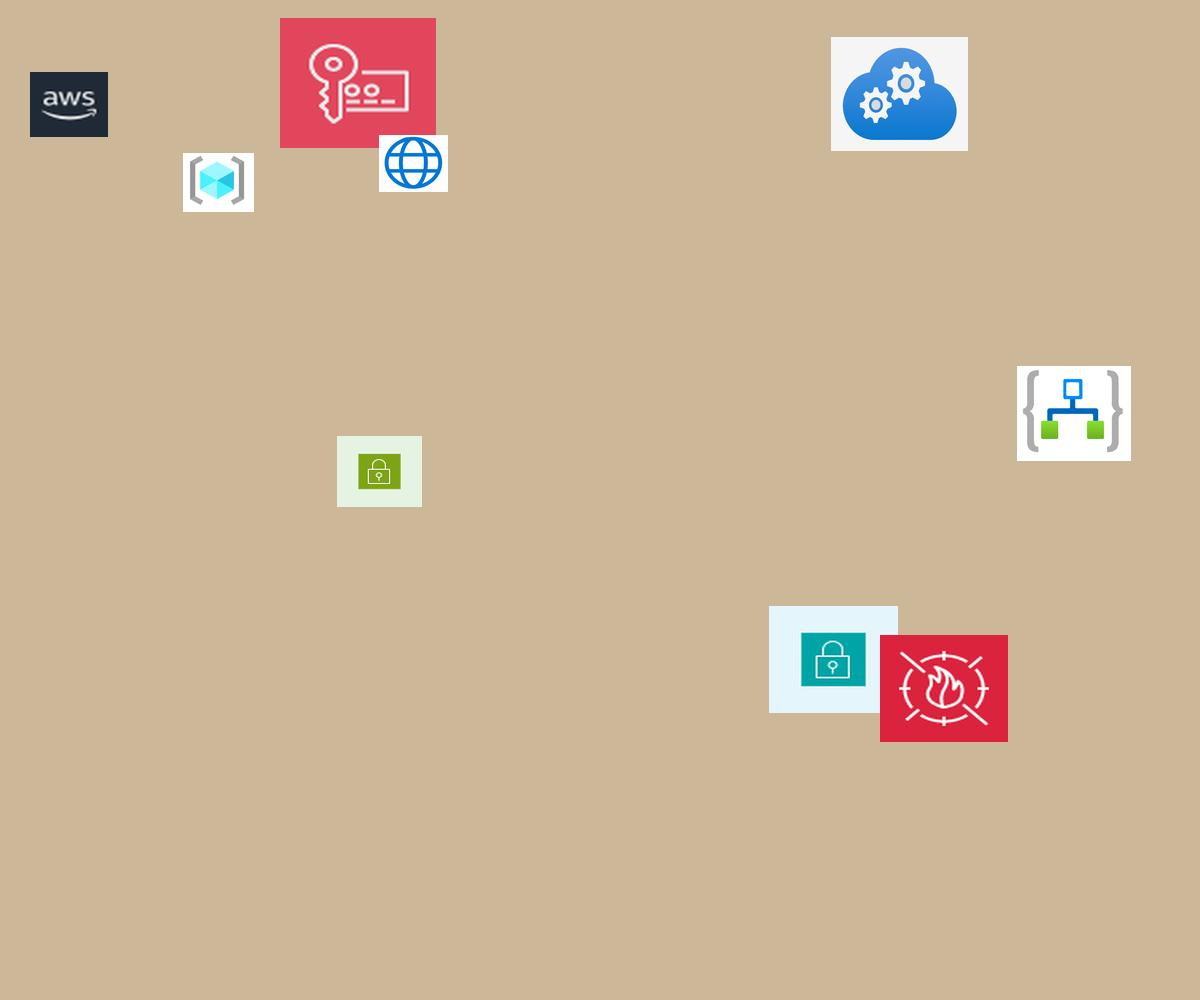AWS-Cloud-logo: (30, 72, 108, 137)
AWS-Key-Management-Service: (280, 18, 436, 148)
AWS-Private-subnet: (769, 606, 898, 713)
AWS-Public-subnet: (337, 436, 422, 507)
AWS-WAF: (880, 635, 1008, 742)
Azure_cloud_services: (831, 37, 968, 151)
Azure_http: (379, 135, 448, 192)
Azure_integration-204-Logic-Apps: (1017, 366, 1131, 461)
Azure_resource_group: (183, 153, 254, 212)
